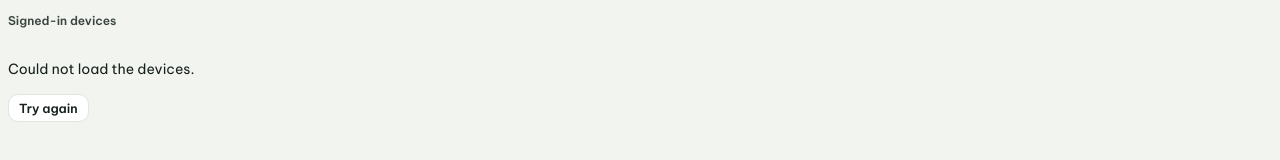
the section and its states (R14) › a failed first read shows the error and Try again, which reads again
Expected: the text "Could not load the devices." is shown, [8,60,194,78]
Click the button "Try again" at [48, 108], box [8,94,89,122]
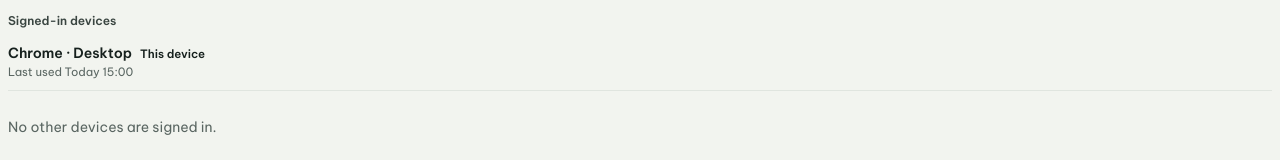
Now the text "This device" is shown, box [140,46,205,61]
Now the text "Could not load the devices." is gone
